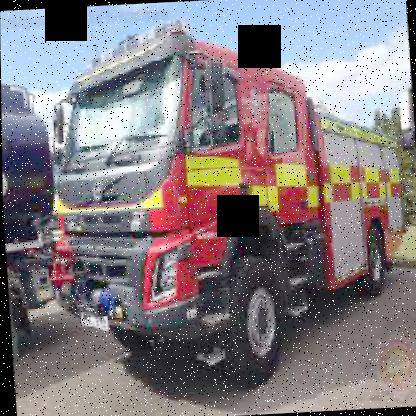emergency: (29, 4, 415, 393)
